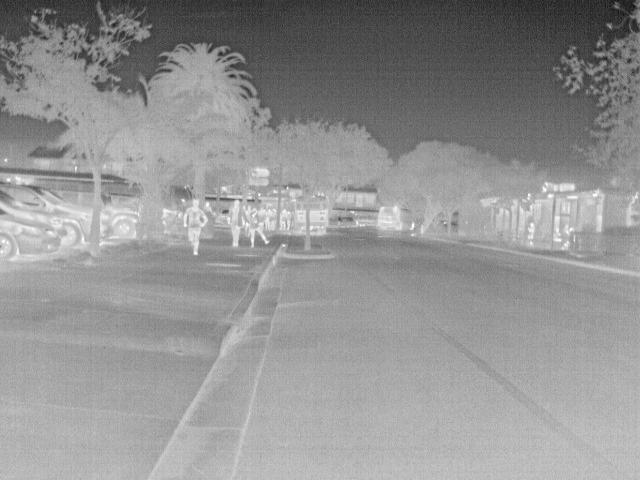car: (3, 183, 96, 250), (1, 206, 60, 264), (101, 200, 141, 241), (162, 206, 186, 232)
person: (184, 199, 210, 255), (226, 197, 246, 248), (245, 210, 271, 248), (524, 220, 536, 250), (551, 226, 565, 242), (285, 209, 293, 232)
